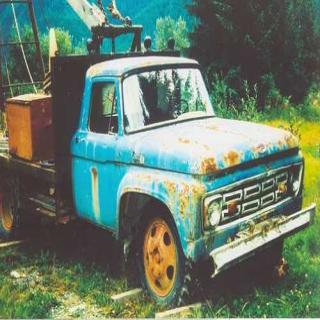Towing_truck: (2, 21, 316, 307)
